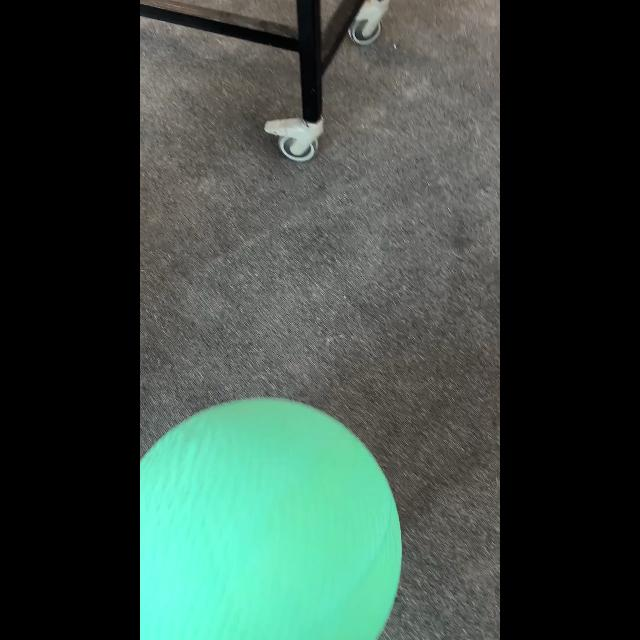ALGAE: (141, 396, 403, 638)
